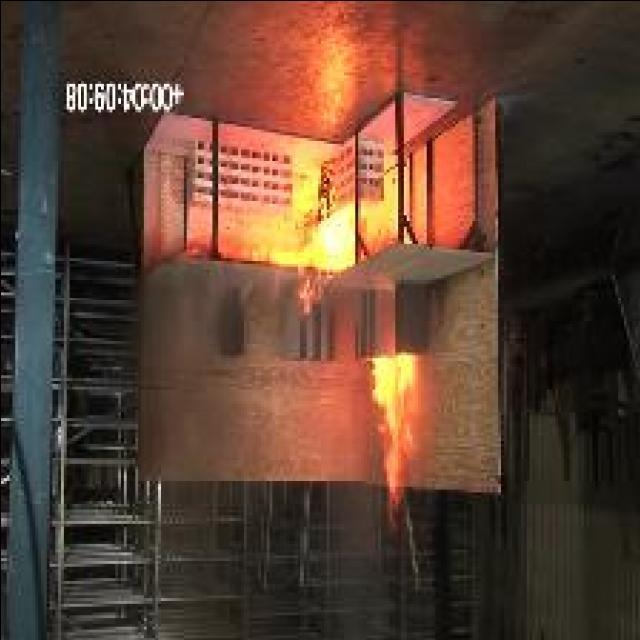Fire: (237, 170, 349, 313), (370, 356, 416, 528)
